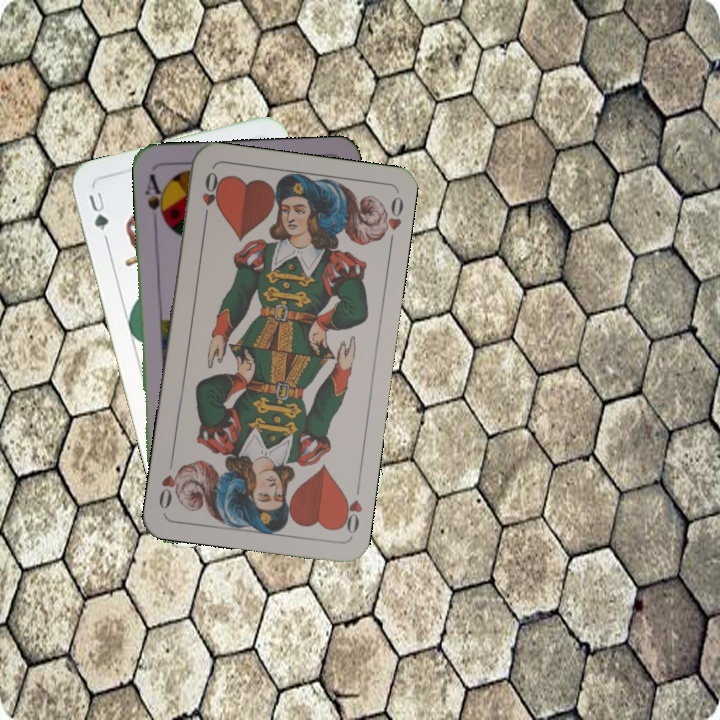GU: (84, 187, 111, 234)
HO: (335, 489, 365, 537), (198, 167, 222, 225)
SA: (141, 169, 169, 227)
